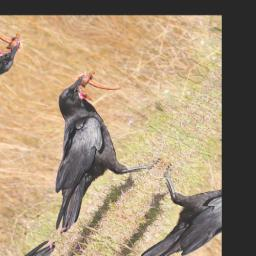Crow: (0, 57, 194, 250)
